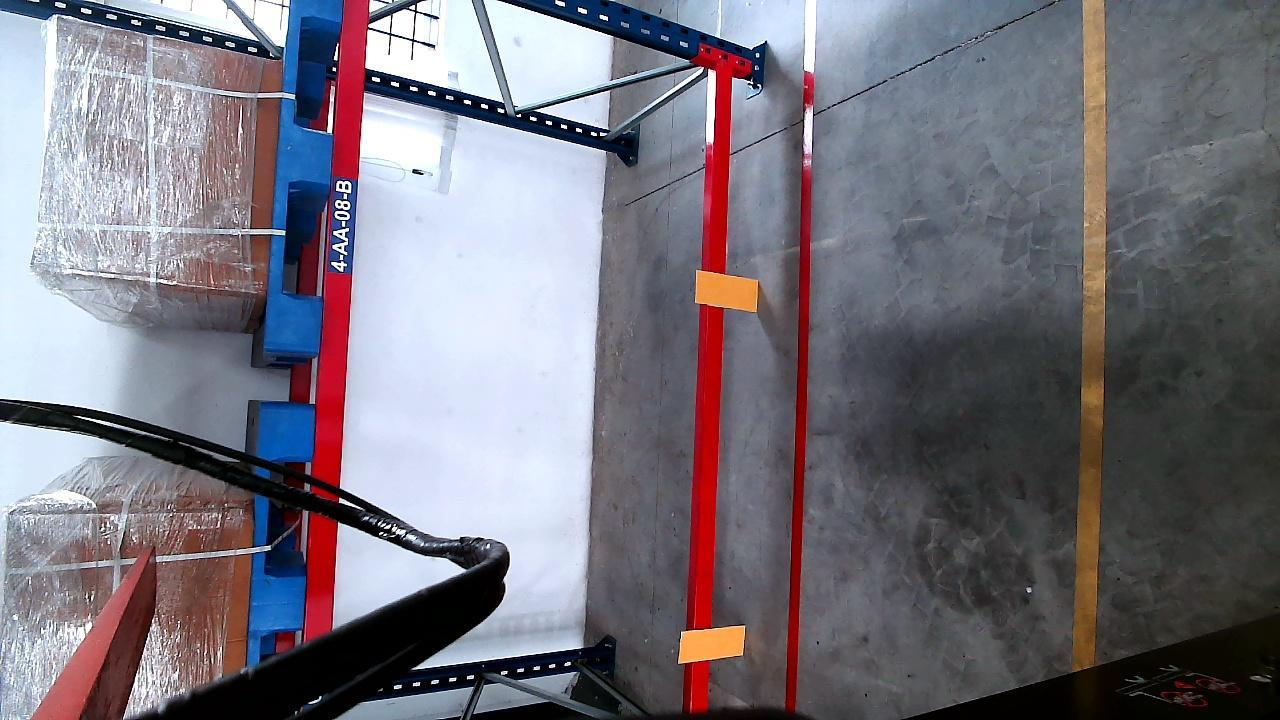red_line: (786, 1, 812, 710)
